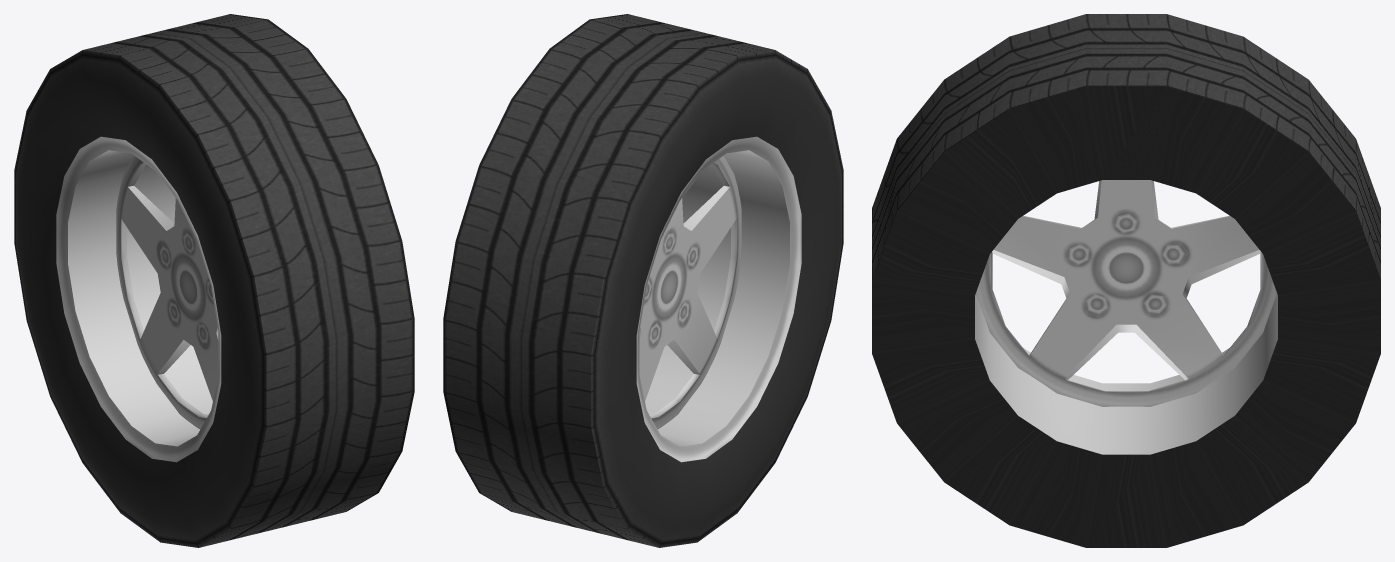
File: GTO_Alloy02.fbx
The picture shows the model from 3 angles, left to right: view 1: azimuth 30°, elevation 25°; view 2: azimuth 150°, elevation 25°; view 3: azimuth 270°, elevation 25°; orthographic projection.
Parts seen in each view (by area): view 1: Empty_Mesh; view 2: Empty_Mesh; view 3: Empty_Mesh.
Part boxes in pixels (x1,y1,x2,y2): Empty_Mesh: (14,14,414,547); Empty_Mesh: (443,14,843,547); Empty_Mesh: (872,14,1380,547).
Size of the model in its own units: 24.66 by 68 by 68.
